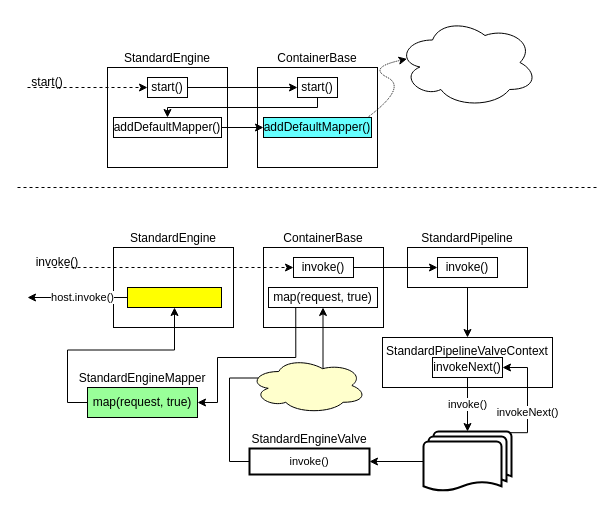
This 616x510 diagram has some shape labels left out. The shapes that lost their labels are listed below. From the top down, each one's centre as x and y in pixels, then its label:
point (467, 62): instantiate the mapper of engine
point (174, 297): findChild(server)
point (307, 385): Confirm " host " Http header
point (467, 461): Valve
